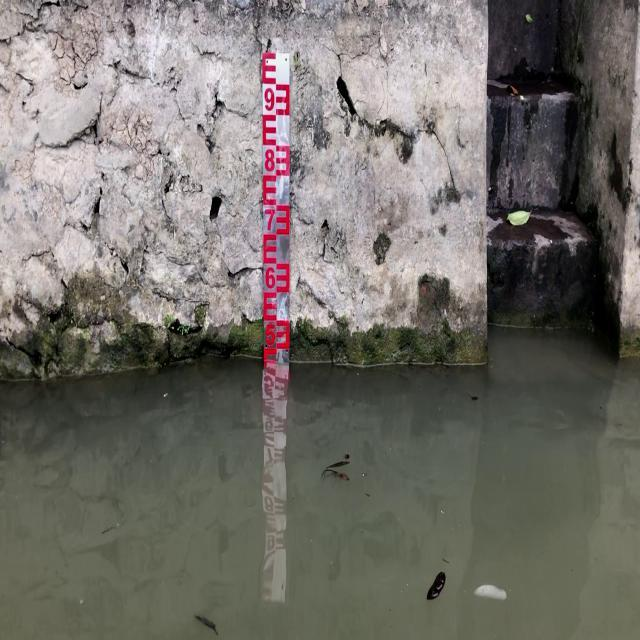ruler: (254, 48, 298, 366)
value: (261, 83, 277, 114), (262, 146, 277, 175), (262, 204, 277, 233), (263, 263, 277, 291), (264, 320, 276, 348)
